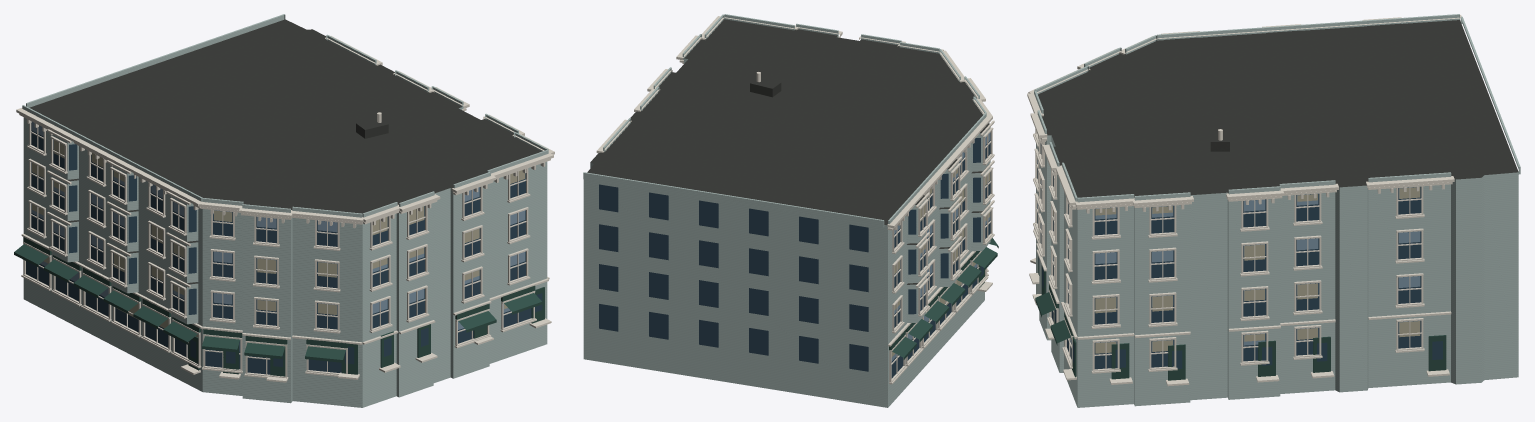
3 views of the same model, side by side, from view 1: azimuth 30°, elevation 25°; view 2: azimuth 150°, elevation 25°; view 3: azimuth 270°, elevation 25° (orthographic). The views are drawn at different scales.
Visible parts, largest first — view 1: Footprint 0 / surface 1, Footprint 0 / surface 2, Cornices and window frames, Inset glazing, Storefronts and doors, Facade bay volumes, Interior blind variation, Sky reflection panels; view 2: Footprint 0 / surface 1, Footprint 0 / surface 2, Inset glazing, Cornices and window frames, Facade bay volumes, Storefronts and doors, Interior blind variation, Sky reflection panels; view 3: Footprint 0 / surface 2, Footprint 0 / surface 1, Cornices and window frames, Inset glazing, Facade bay volumes, Storefronts and doors, Interior blind variation, Sky reflection panels.
Boxes of the visible parts, left/top/right/bottom form: Footprint 0 / surface 1: left=29, top=19, right=541, bottom=213; Footprint 0 / surface 2: left=23, top=107, right=547, bottom=407; Cornices and window frames: left=16, top=36, right=554, bottom=382; Inset glazing: left=26, top=123, right=542, bottom=374; Storefronts and doors: left=14, top=237, right=544, bottom=376; Facade bay volumes: left=22, top=14, right=548, bottom=324; Interior blind variation: left=32, top=140, right=525, bottom=337; Sky reflection panels: left=31, top=121, right=525, bottom=351; Footprint 0 / surface 1: left=587, top=19, right=982, bottom=224; Footprint 0 / surface 2: left=583, top=36, right=984, bottom=407; Inset glazing: left=599, top=132, right=990, bottom=378; Cornices and window frames: left=596, top=16, right=994, bottom=384; Facade bay volumes: left=583, top=14, right=990, bottom=322; Storefronts and doors: left=889, top=238, right=998, bottom=359; Interior blind variation: left=891, top=168, right=990, bottom=357; Sky reflection panels: left=891, top=133, right=990, bottom=361; Footprint 0 / surface 2: left=1036, top=135, right=1518, bottom=407; Footprint 0 / surface 1: left=1038, top=20, right=1518, bottom=197; Cornices and window frames: left=1027, top=15, right=1461, bottom=386; Inset glazing: left=1037, top=143, right=1442, bottom=369; Facade bay volumes: left=1034, top=14, right=1520, bottom=202; Storefronts and doors: left=1035, top=239, right=1446, bottom=380; Interior blind variation: left=1037, top=158, right=1420, bottom=353; Sky reflection panels: left=1037, top=159, right=1420, bottom=351.
Bounding box in the file's own units: 28.24 × 15.26 × 30.43.
